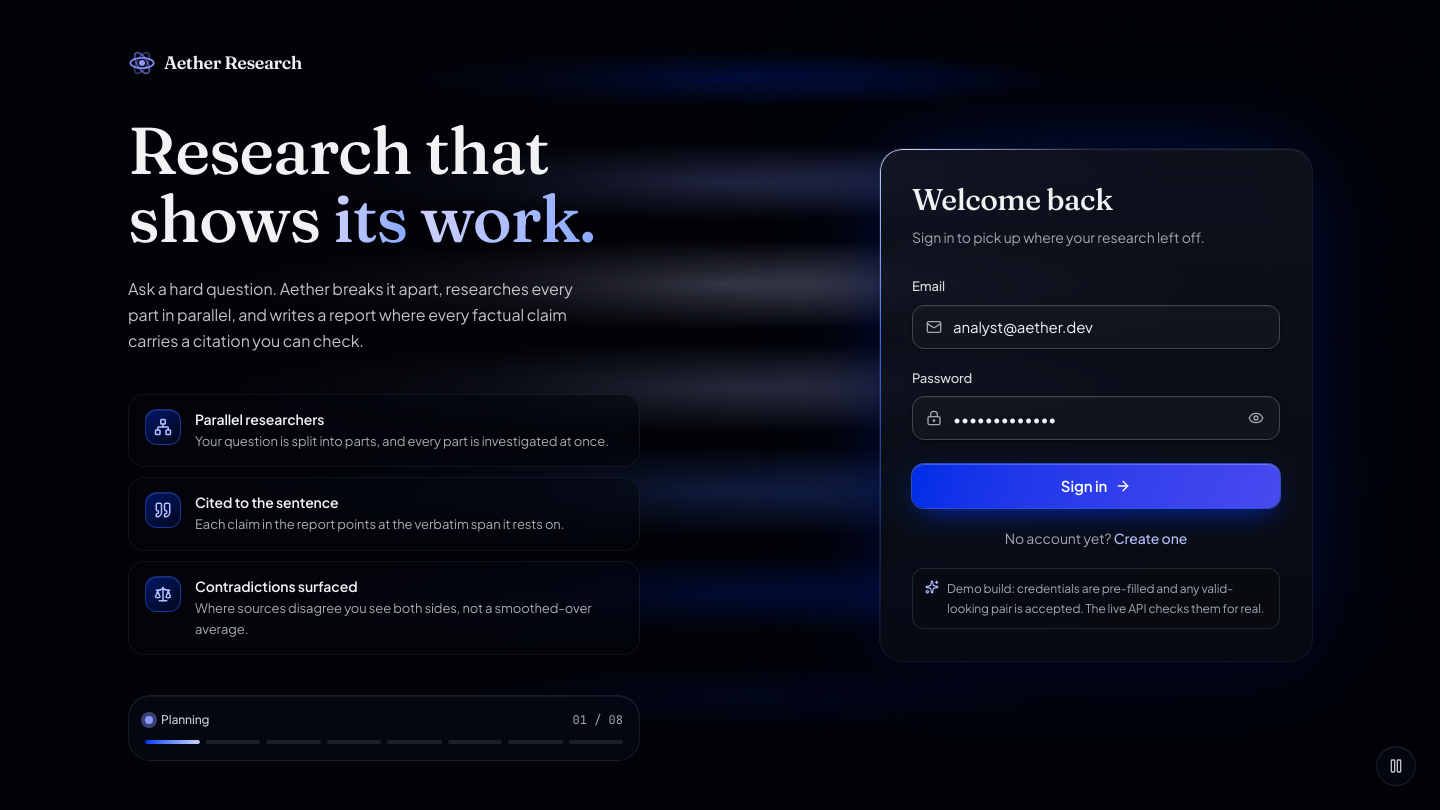
LoginPage › shows a refusal and gives the button back, rather than leaving it spinning
Replace the text in the field labelled "Email" with "nobody@example.com" at (1096, 327), box x1=912 y1=305 x2=1280 y2=349
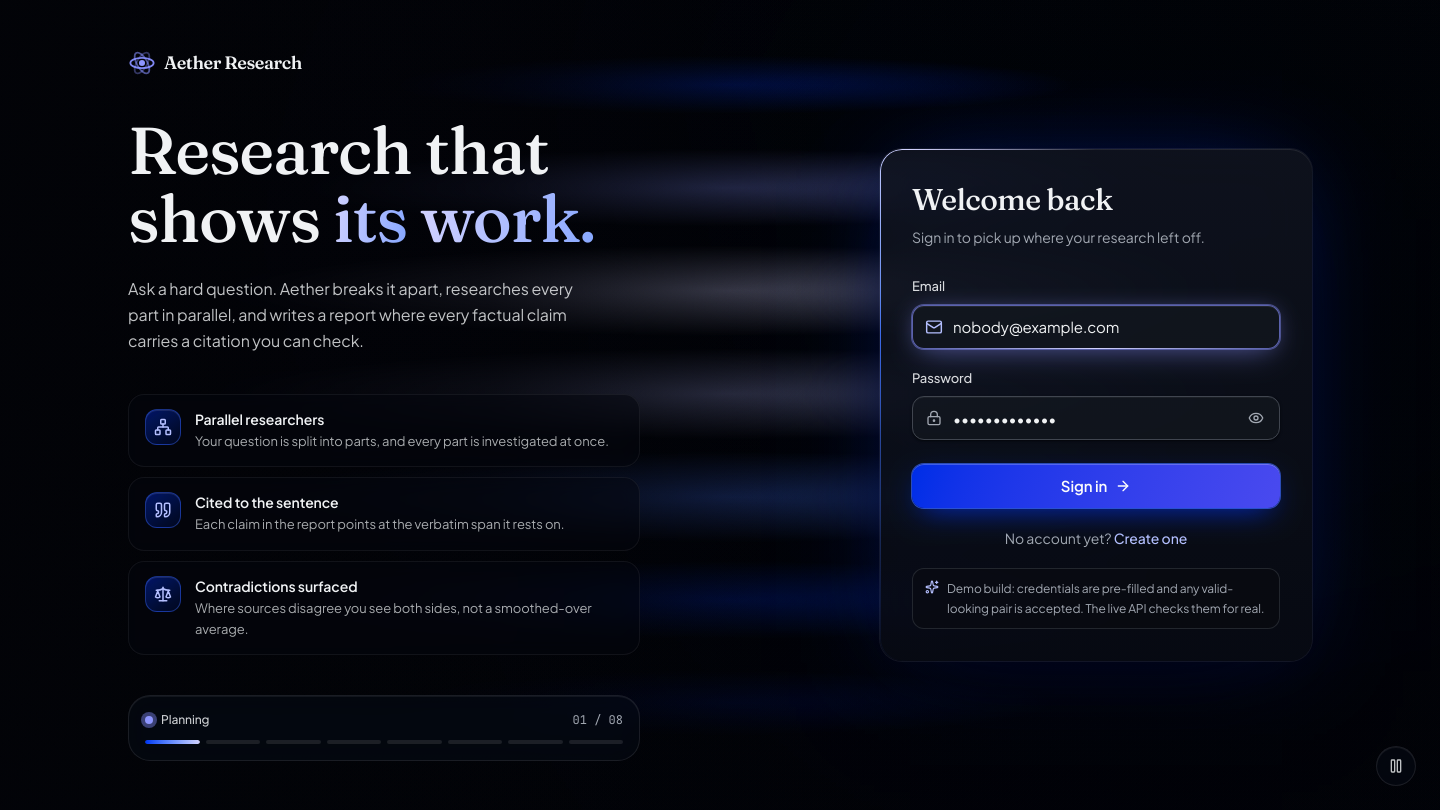
Click the button with test id "login-submit" at (1096, 486), box x1=912 y1=464 x2=1280 y2=508
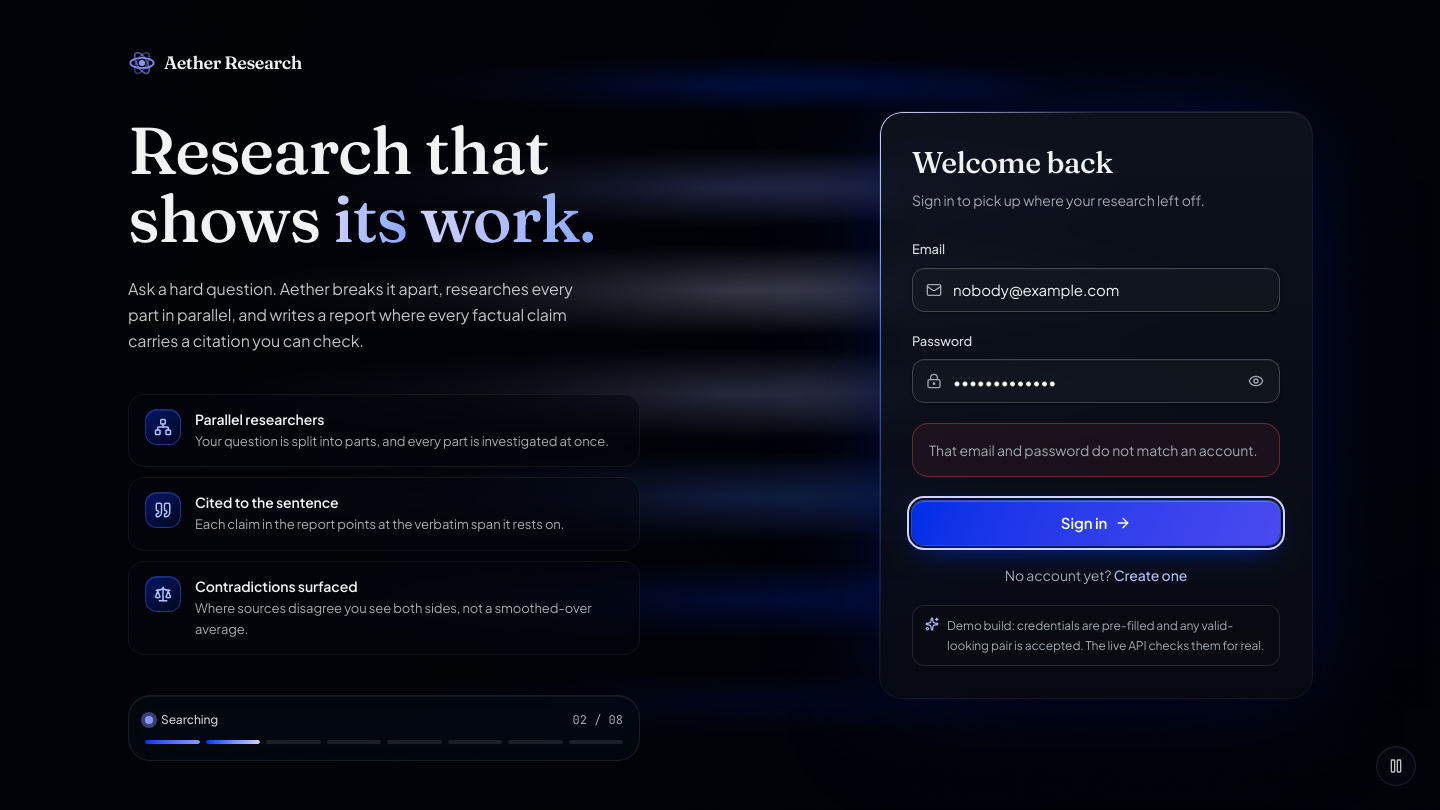
Expected: the button with test id "login-submit" is enabled, x1=912 y1=501 x2=1280 y2=545
Expected: the text "That email and password do not match an account." is shown, x1=929 y1=440 x2=1257 y2=460
